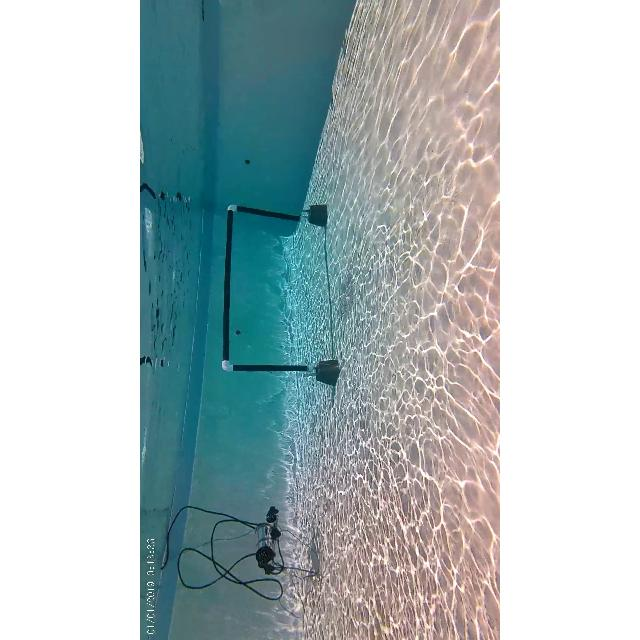prequal gate: (222, 204, 314, 376)
prequal gate leg l: (218, 348, 344, 392)
prequal gate leg r: (218, 199, 336, 237)
